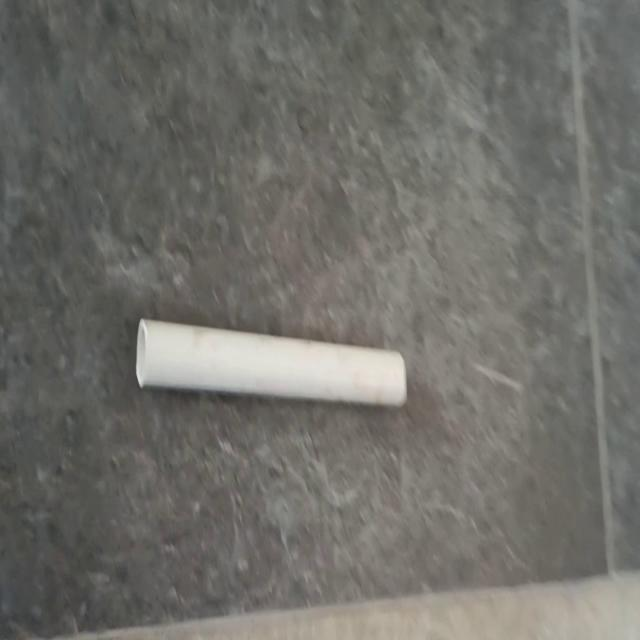Cube: (134, 315, 408, 409)
